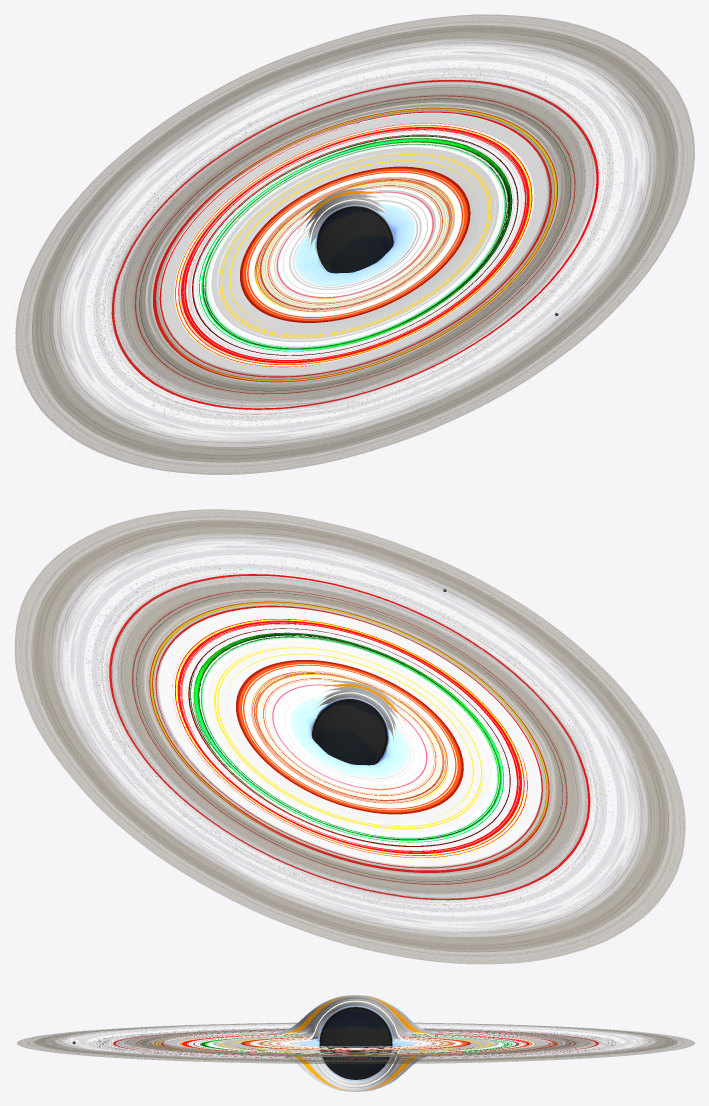
The model's file is black_hole_draco.glb.
3 views of the same model, one above another, from view 1: azimuth 30°, elevation 25°; view 2: azimuth 150°, elevation 25°; view 3: azimuth 270°, elevation 25° (orthographic). The views are drawn at different scales.
Parts seen in each view (by area): view 1: black hole_ring, black hole; view 2: black hole_ring, black hole; view 3: black hole, black hole_ring.
Boxes of the visible parts, <box> form: black hole_ring: <box>15,14,694,474</box>; black hole: <box>104,75,605,414</box>; black hole_ring: <box>15,509,685,964</box>; black hole: <box>102,569,597,904</box>; black hole: <box>106,995,605,1091</box>; black hole_ring: <box>17,1022,694,1063</box>.
Size of what is drawn, in the model's own units: 3097 by 1220 by 3298.
8 materials, 7 textured.
